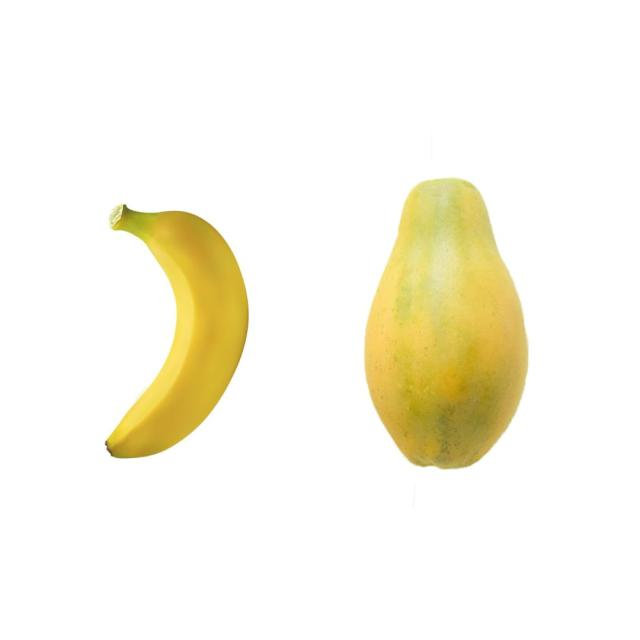Pepaya: (363, 176, 529, 469)
Pisang: (103, 202, 249, 458)
